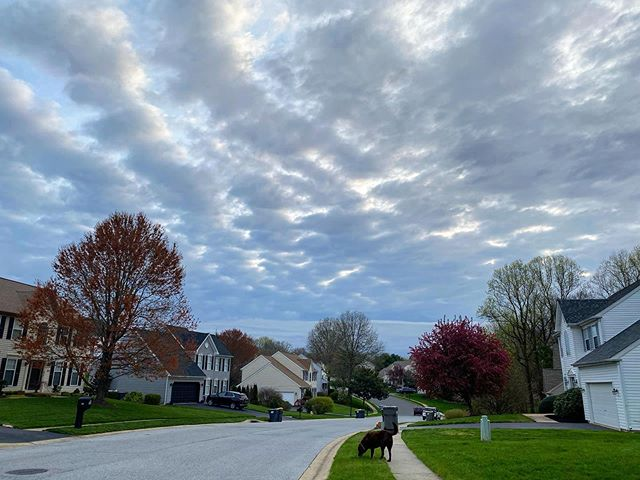animal: (353, 425, 402, 457)
building: (556, 275, 640, 434), (1, 279, 90, 397), (106, 331, 233, 398), (237, 349, 327, 403)
grass: (416, 429, 640, 480)
sky: (1, 1, 626, 273)
street: (1, 413, 397, 480)
tree: (21, 211, 205, 426), (481, 246, 584, 389), (408, 322, 519, 420), (293, 305, 384, 408)
